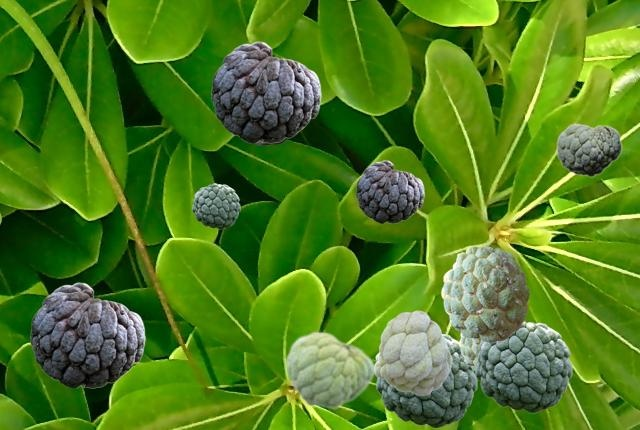atis: (30, 282, 144, 387), (211, 41, 320, 142), (376, 333, 476, 427), (475, 321, 571, 412), (441, 245, 528, 341), (284, 330, 374, 409), (375, 310, 451, 394), (243, 59, 308, 144), (356, 160, 423, 222), (556, 123, 621, 176), (192, 183, 239, 228), (459, 333, 480, 371)
